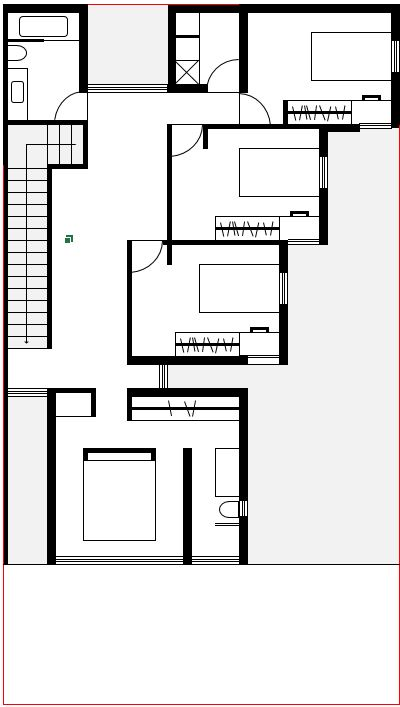door: (133, 245, 163, 278), (48, 87, 78, 120), (173, 129, 203, 162), (208, 51, 238, 84), (248, 91, 278, 124)
wall: (169, 3, 397, 14), (46, 387, 57, 566), (127, 355, 244, 365), (238, 384, 247, 499), (183, 446, 192, 561), (279, 302, 288, 362)
window: (88, 83, 167, 92), (318, 157, 329, 189), (279, 273, 289, 305), (391, 41, 400, 72), (359, 123, 392, 131)
